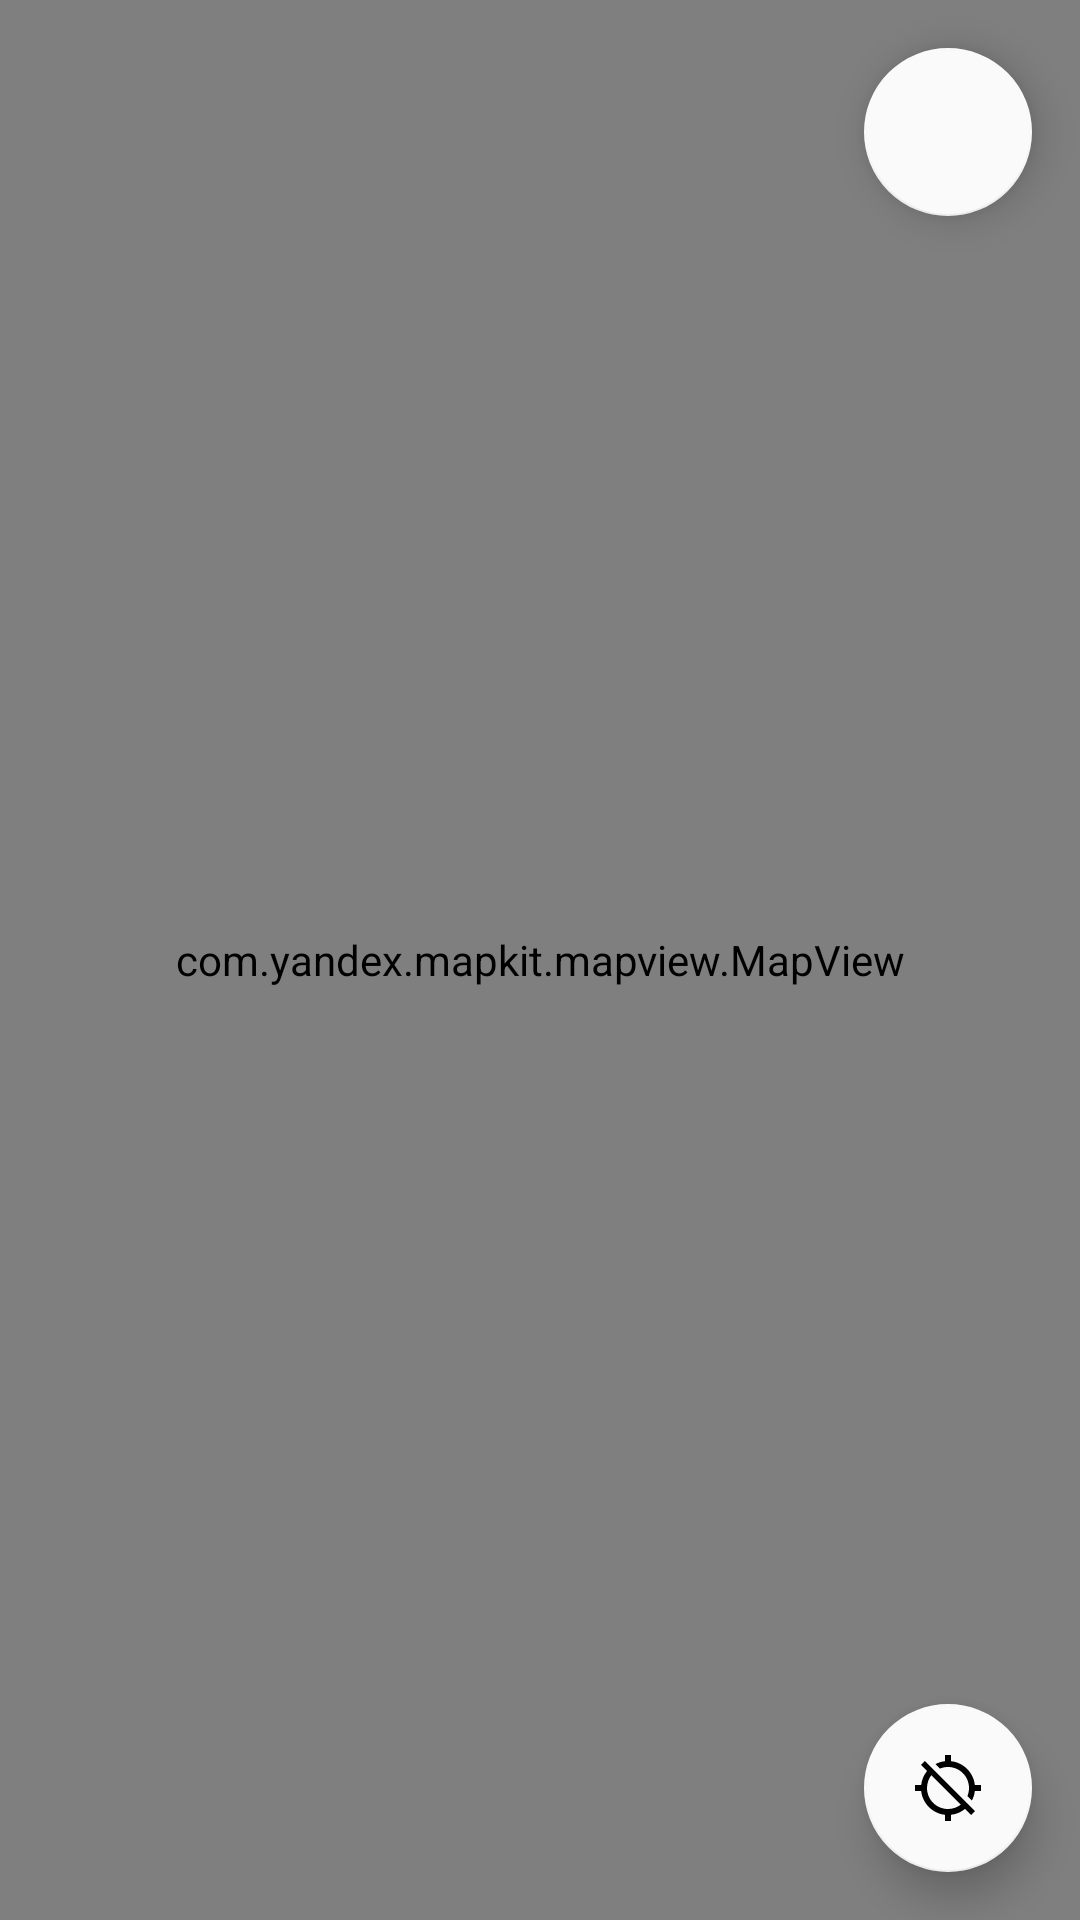

Screen size 1080 x 1920. Icon name, then its box in pixels as (x1, y1, x2, y2):
location: (864, 1704, 1032, 1872)
